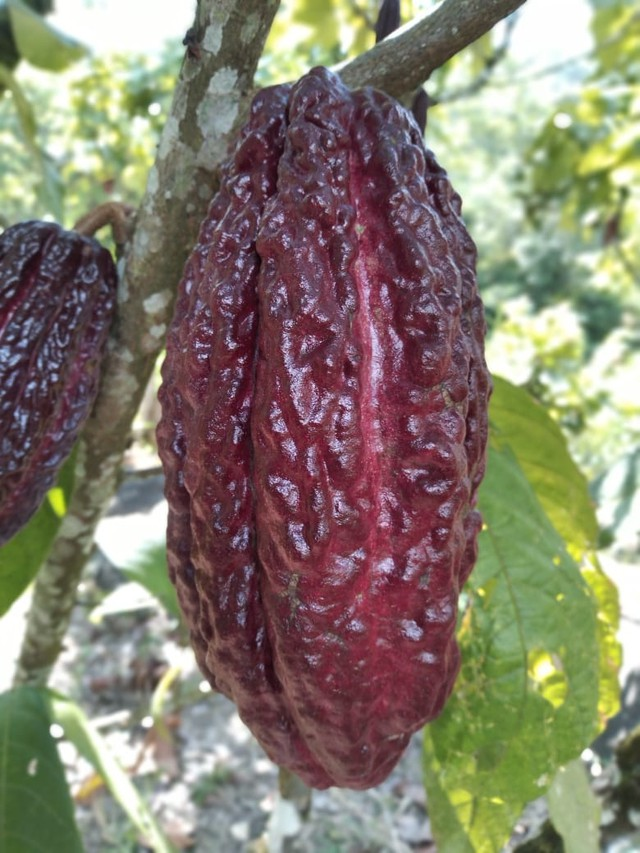Health: (145, 48, 505, 799)
